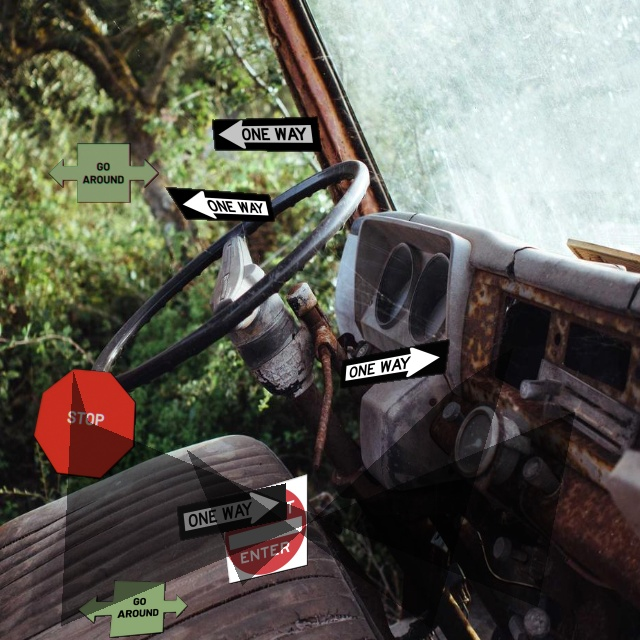DO_NOT_ENTER: (219, 473, 308, 584)
GO_AROUND: (48, 143, 159, 203), (77, 580, 188, 638)
ONE_WAY_ left: (211, 116, 322, 152), (164, 186, 275, 222)
ONE_WAY_ right: (176, 483, 287, 541), (339, 338, 450, 389)
STOP: (33, 368, 136, 479)
